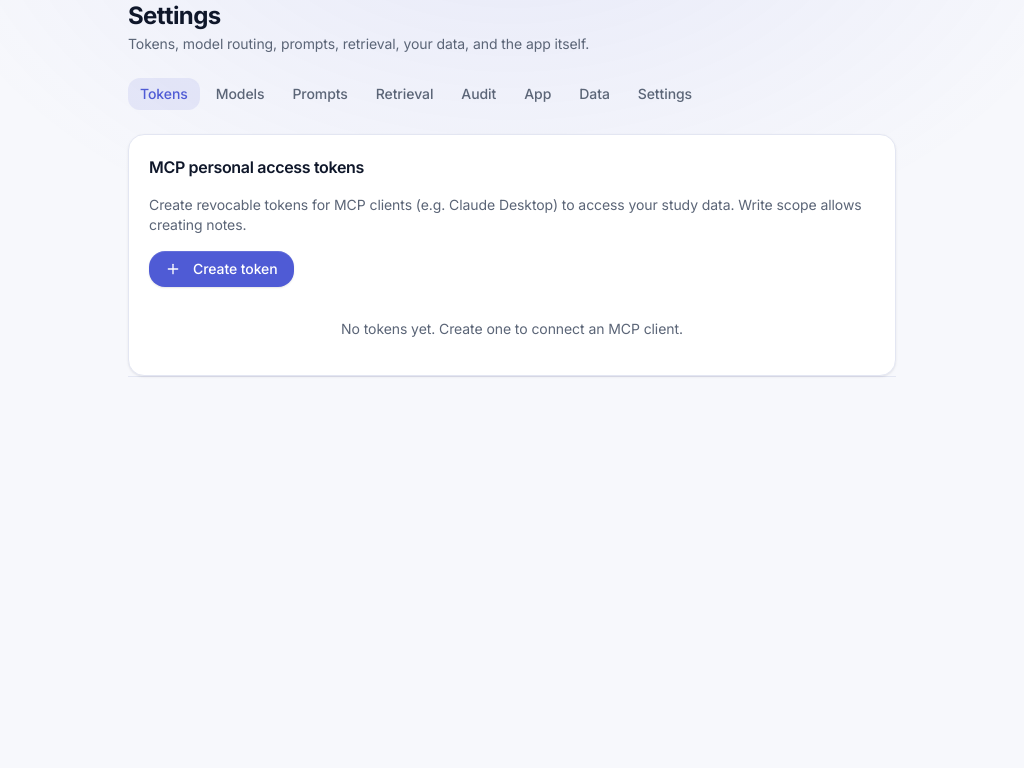
it: the MCP token controls › shows the one-time token in the dialog and copies exactly it
Click the button "Create token": (221, 269) [149, 251, 294, 287]
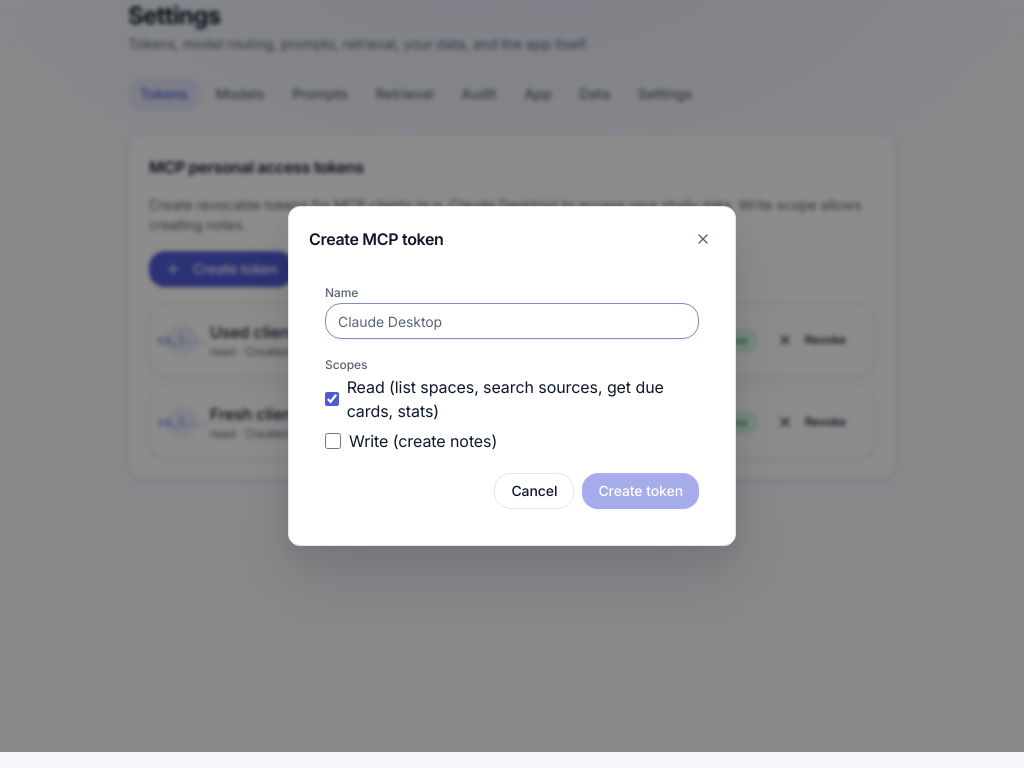
In the field labelled "Name": (512, 321) [325, 303, 699, 339], type "New client"
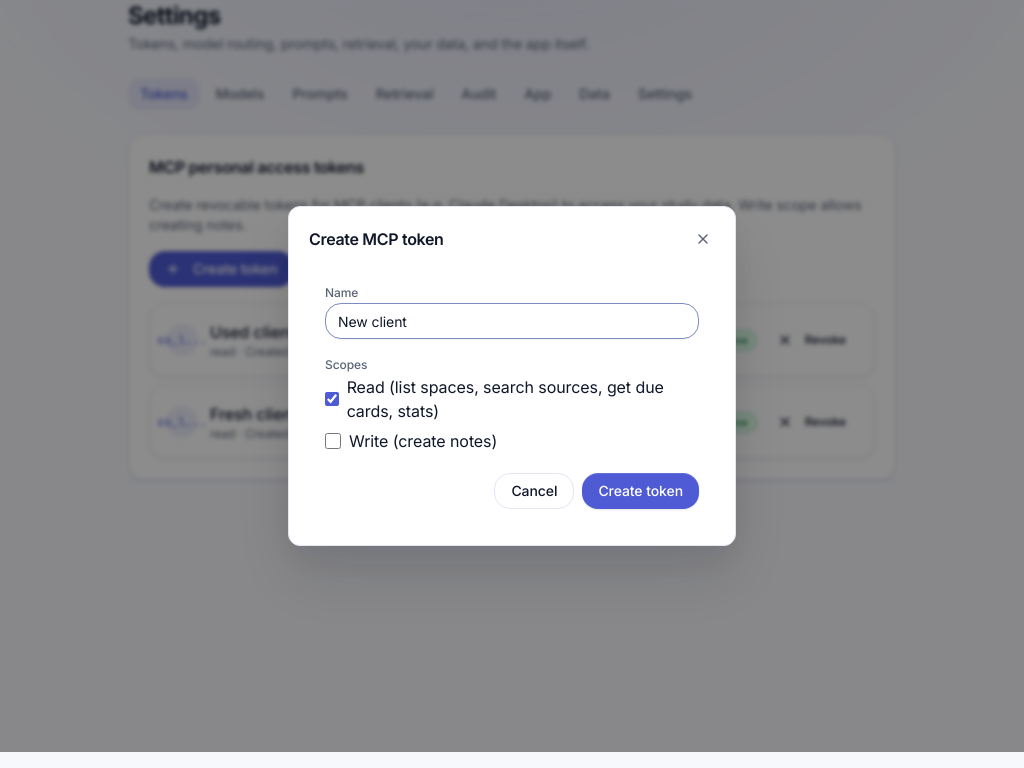
Submit the form labelled "Name", box [309, 263, 715, 525]
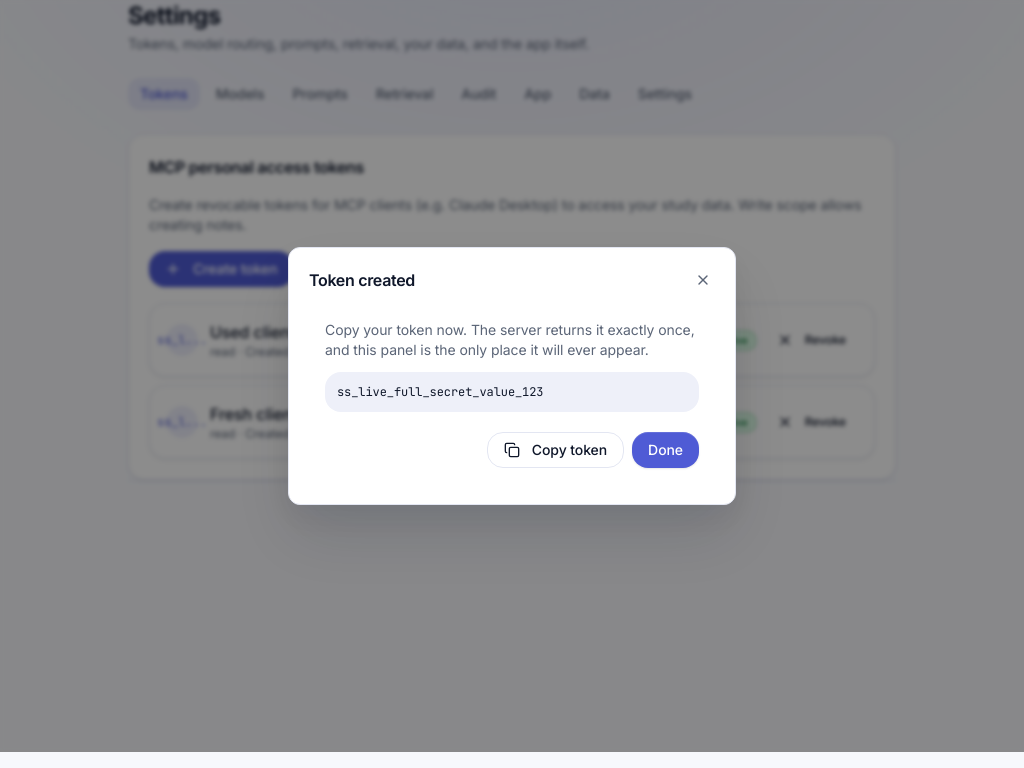
Check: the text "ss_live_full_secret_value_123" is shown, box [325, 372, 699, 412]
Click the button "Copy token": (555, 450) [487, 432, 624, 468]
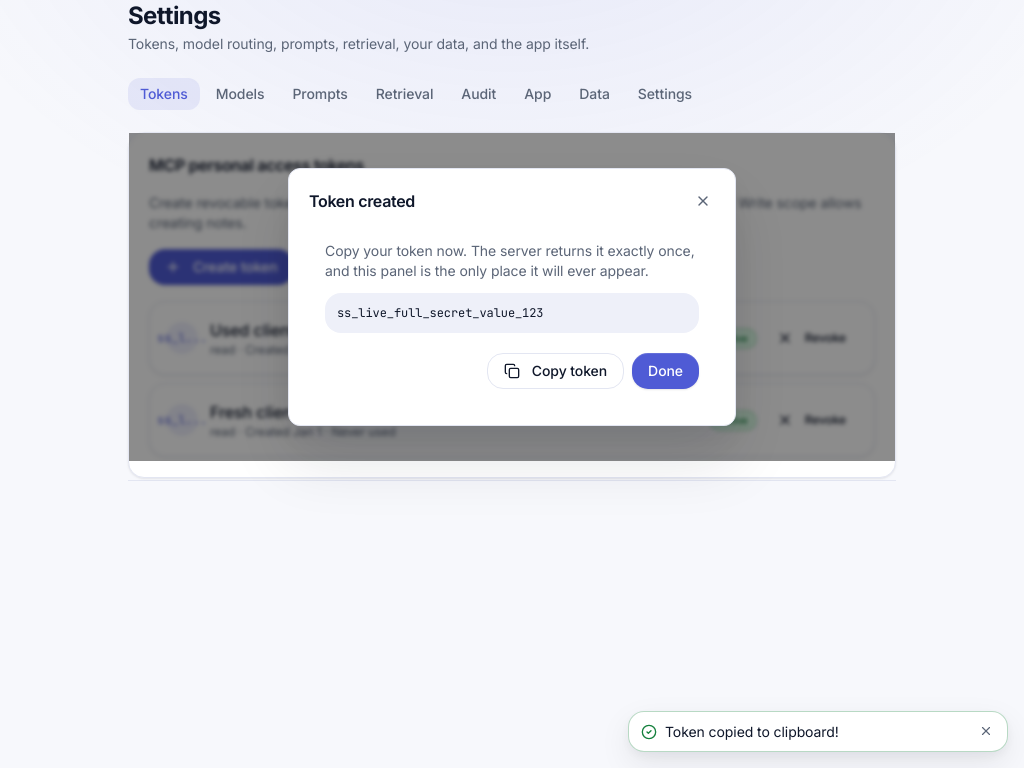
Check: the text "Token copied to clipboard!" is shown, box [665, 723, 839, 740]
